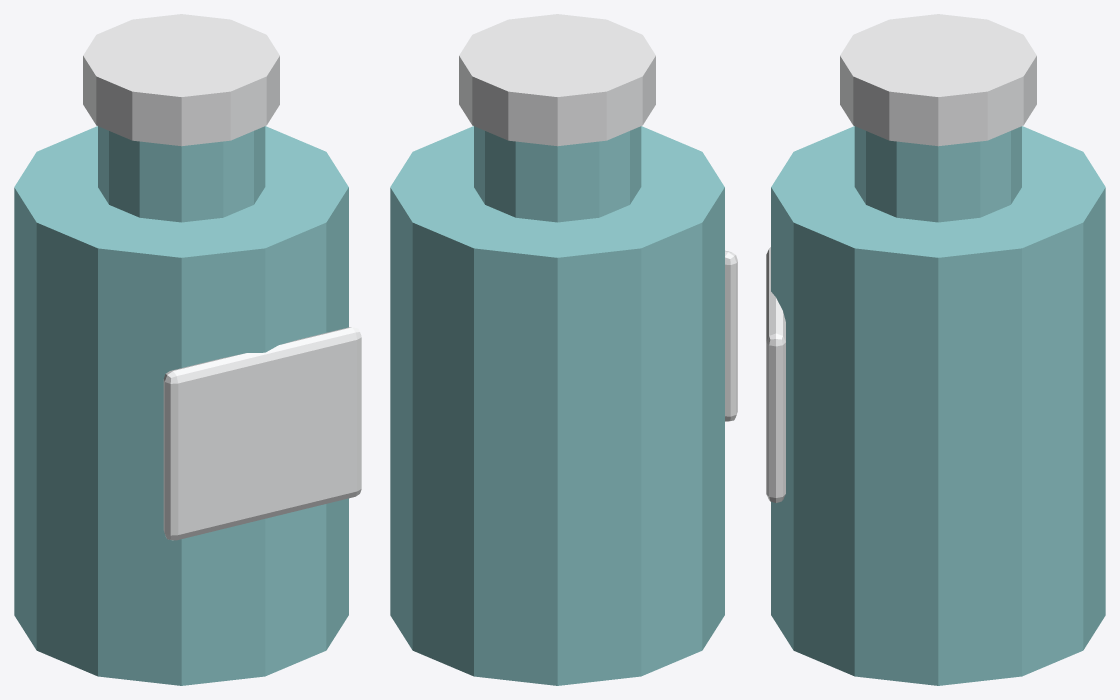
Rendered from bottle.glb.
The picture shows the model from 3 angles, left to right: view 1: azimuth 30°, elevation 25°; view 2: azimuth 150°, elevation 25°; view 3: azimuth 270°, elevation 25°; orthographic projection.
Parts seen in each view (by area): view 1: Container.001, Cap; view 2: Container.001, Cap; view 3: Container.001, Cap.
Part boxes in pixels (box(x1,y1,x2,y2)): Container.001: box(14, 126, 348, 685); Cap: box(83, 14, 361, 540); Container.001: box(390, 126, 724, 685); Cap: box(459, 14, 737, 421); Container.001: box(771, 126, 1105, 685); Cap: box(766, 14, 1036, 502).
Bounding box in the file's own units: 0.34 × 0.6275 × 0.345.
